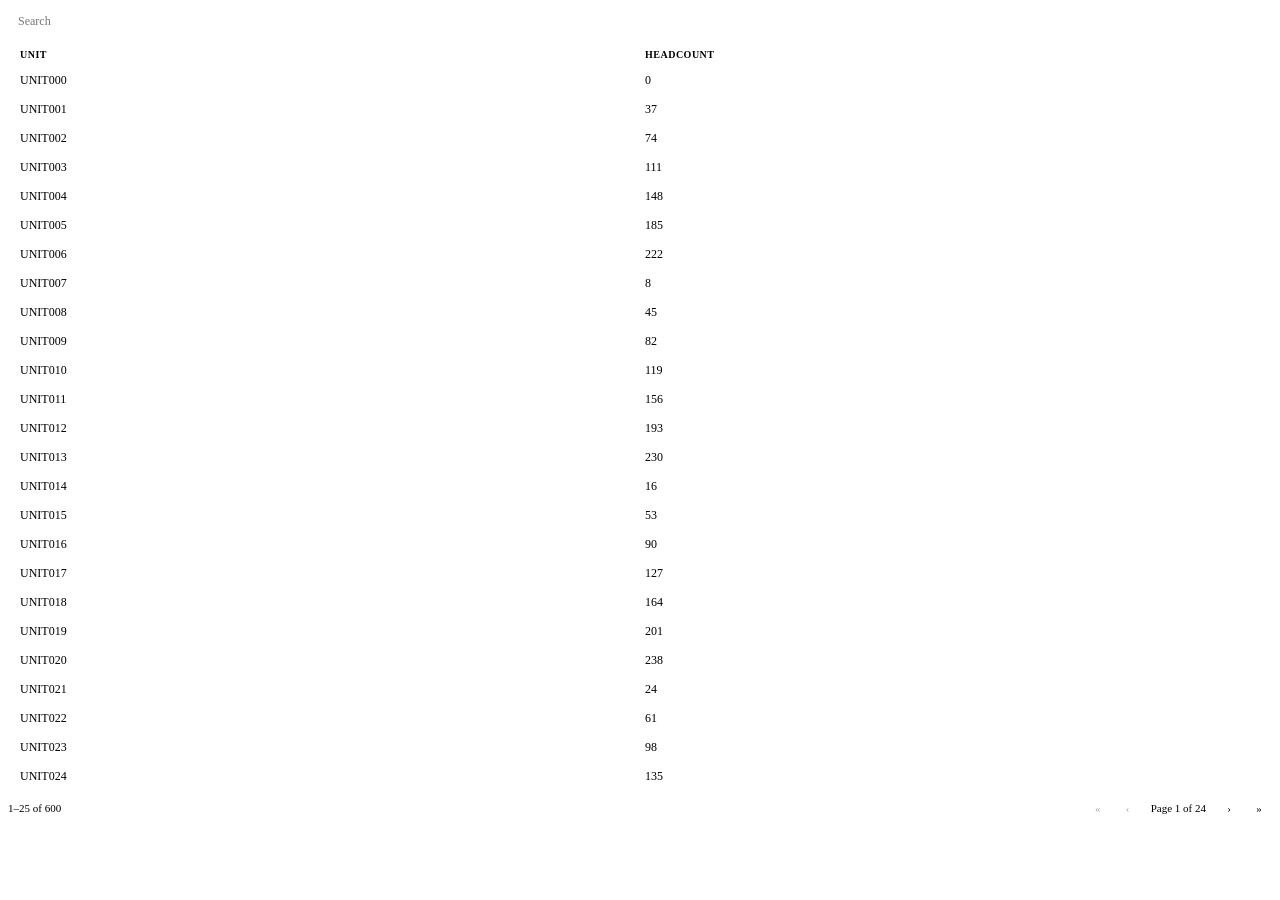
Test case: DataTable › a row opens to show its detail, and closes again
Click the text "UNIT000" at (43, 80), box [20, 73, 67, 87]
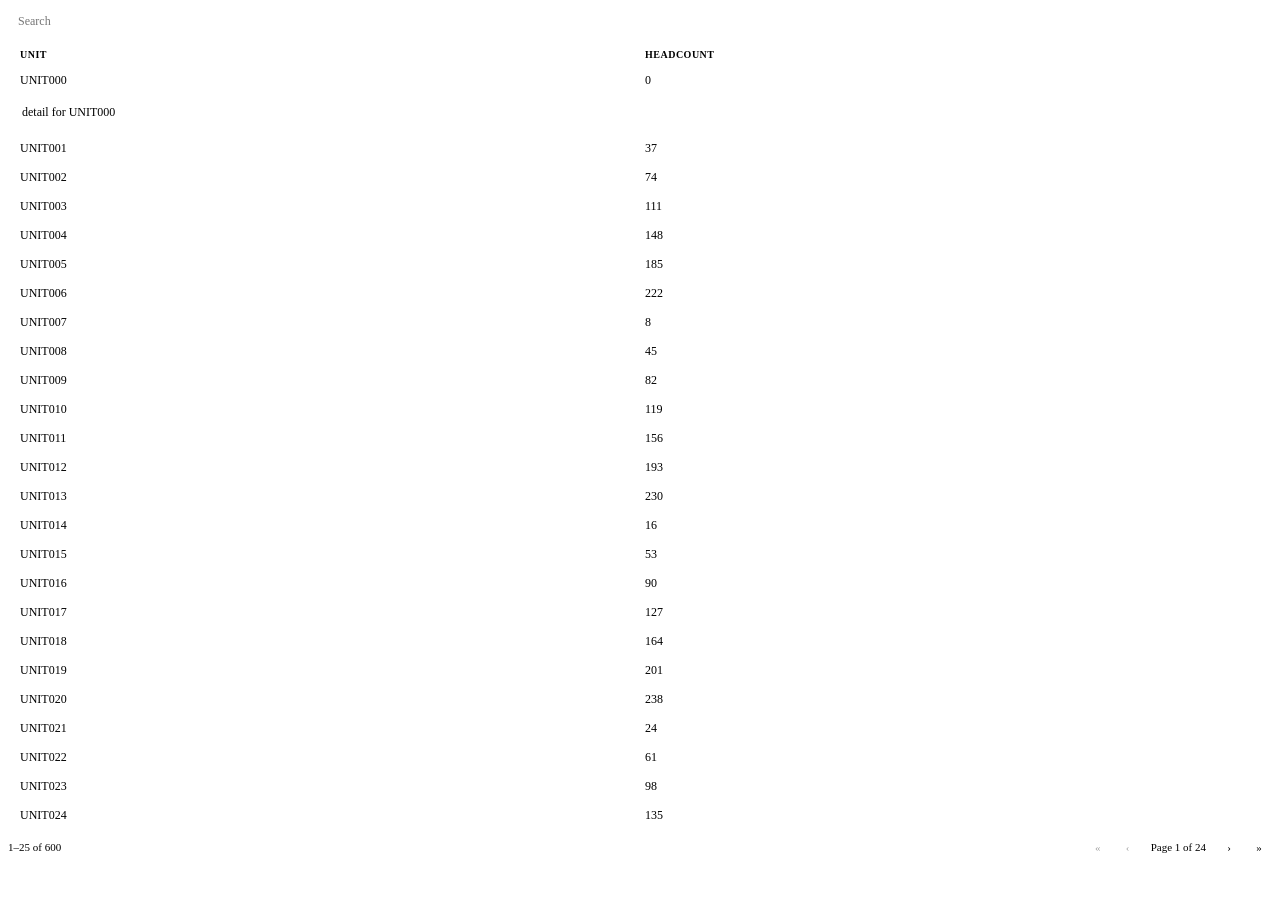
Expected: the text "detail for UNIT000" is shown, [22, 105, 115, 119]
Click the text "UNIT000" at (43, 80), box [20, 73, 67, 87]
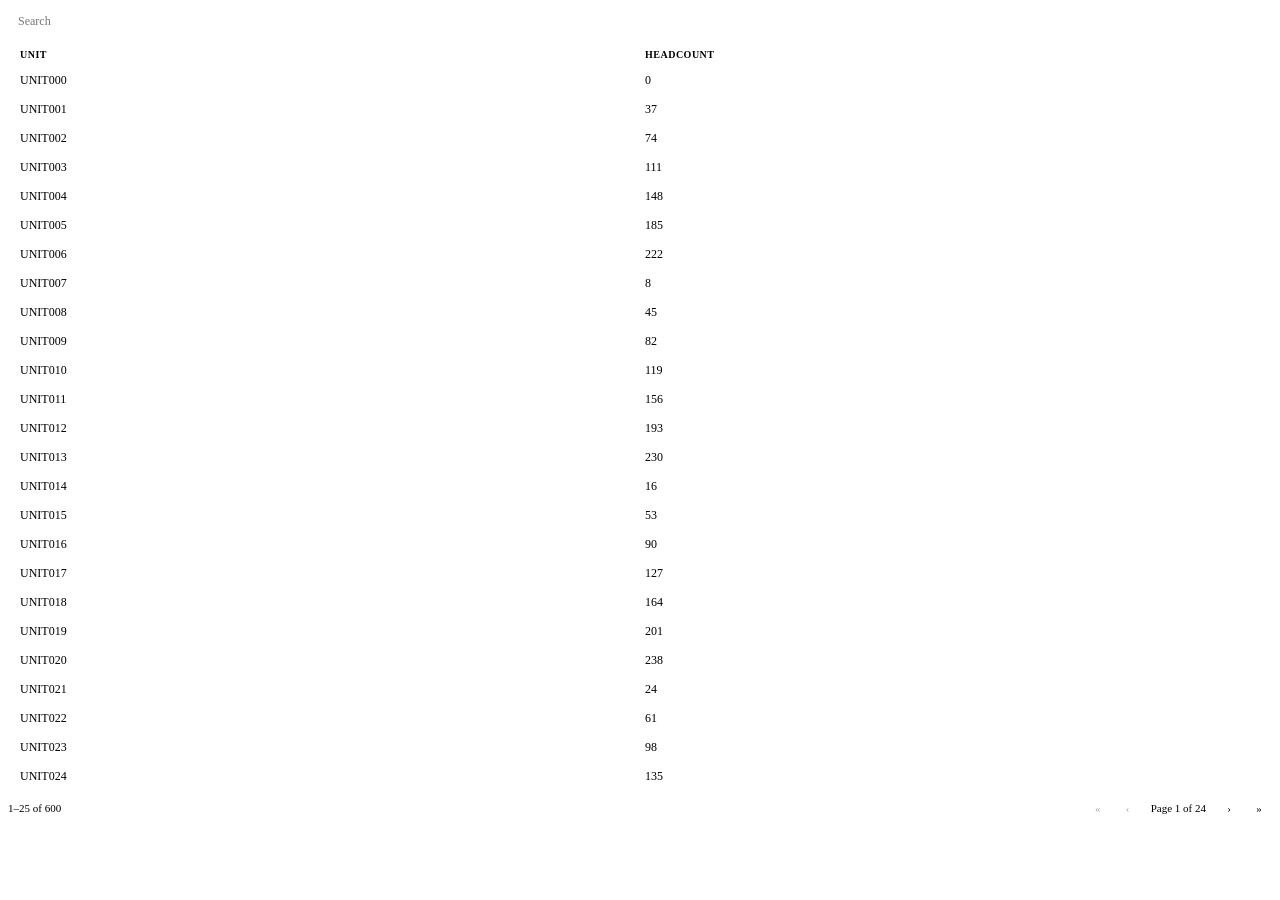
Expected: the text "detail for UNIT000" is gone
